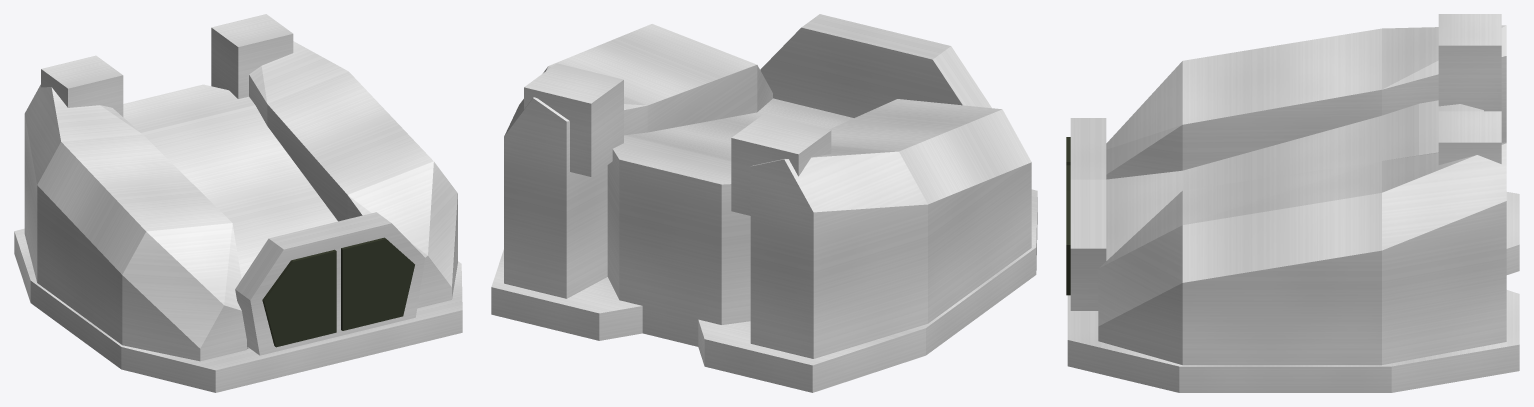
The model's file is mech_assembler.obj.
3 renders of one model, left to right at view 1: azimuth 30°, elevation 25°; view 2: azimuth 150°, elevation 25°; view 3: azimuth 270°, elevation 25°, orthographic. The views are drawn at different scales.
Visible parts, largest first — view 1: mech_assembler; view 2: mech_assembler; view 3: mech_assembler.
Part boxes in pixels (x1,y1,x2,y2): mech_assembler: [14, 14, 462, 392]; mech_assembler: [491, 14, 1037, 392]; mech_assembler: [1066, 14, 1519, 392].
Bounding box in the file's own units: 2.84 × 1.48 × 2.8.
